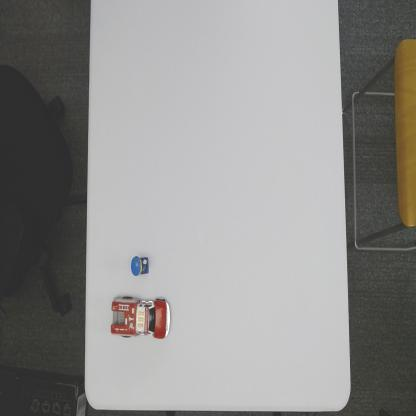Firetruck: (110, 296, 171, 342)
